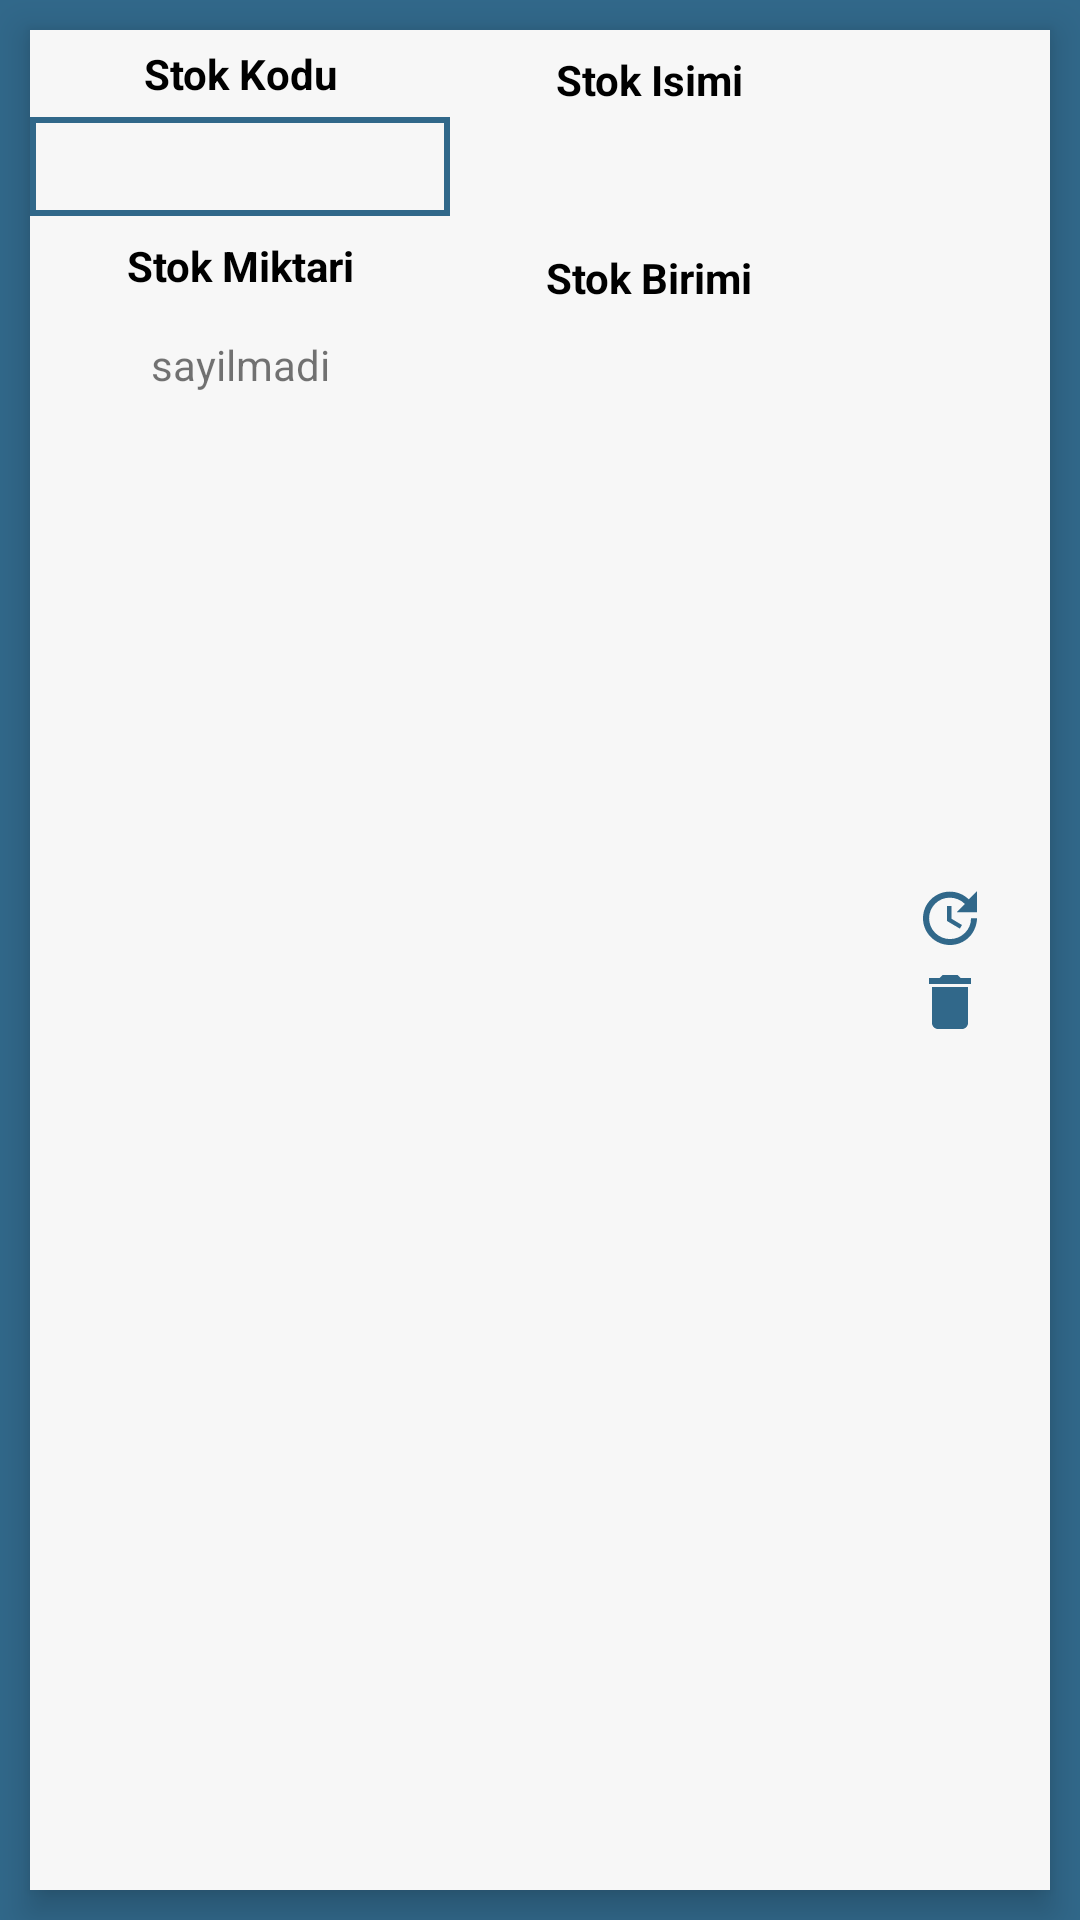

Where to tap for icons on this 1080px x 1920px app screen, as (x=x, y=y):
delete: (x=950, y=1002)
update: (x=950, y=918)
